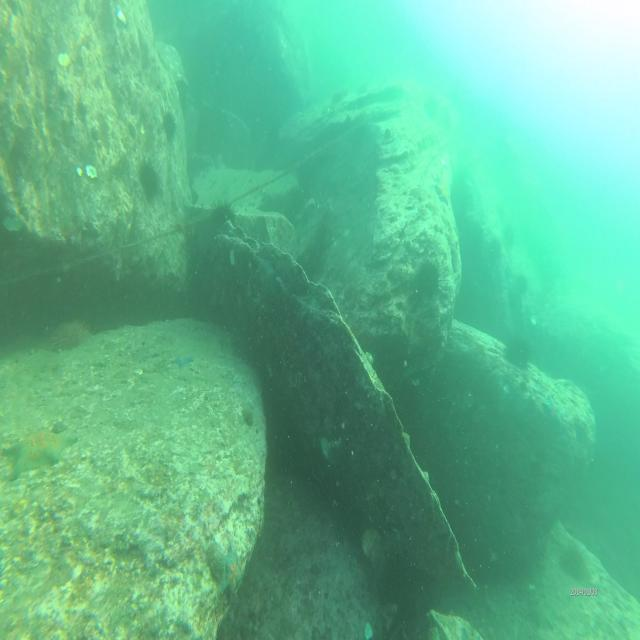echinus: (51, 315, 91, 355), (414, 254, 446, 300), (558, 540, 592, 583), (138, 154, 162, 202), (208, 199, 237, 237), (502, 332, 530, 370), (160, 109, 177, 144)
starfish: (5, 417, 76, 475), (219, 542, 244, 598), (173, 344, 195, 372)
